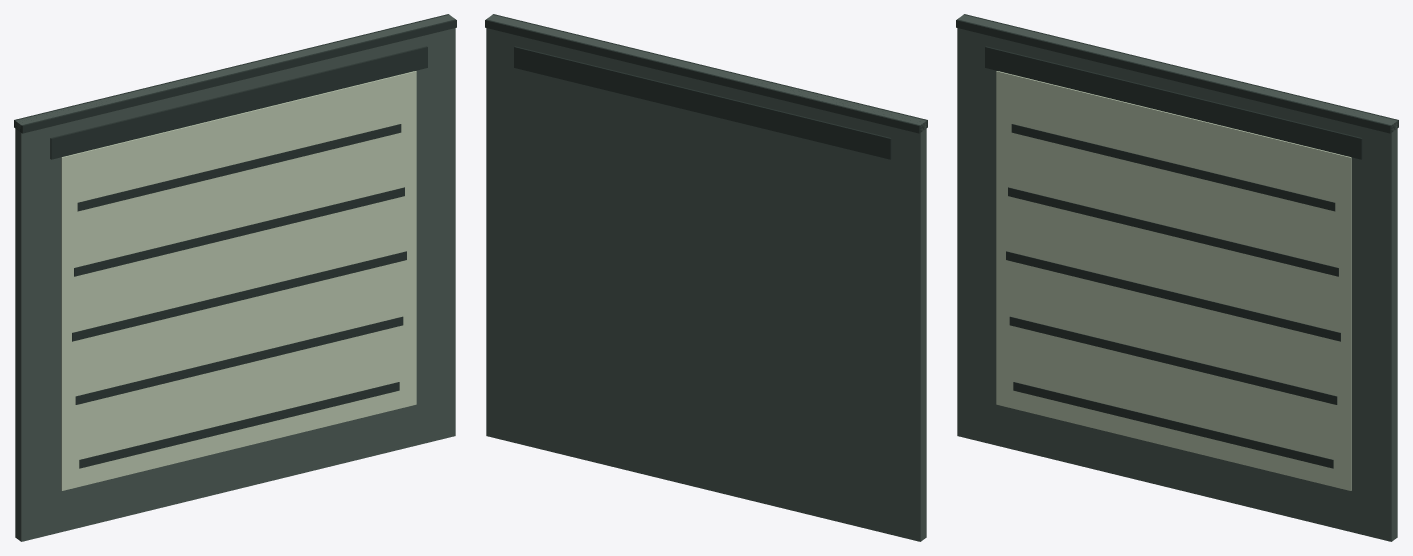
The picture shows the model from 3 angles, left to right: view 1: azimuth 30°, elevation 25°; view 2: azimuth 150°, elevation 25°; view 3: azimuth 330°, elevation 25°; orthographic projection.
Parts seen in each view (by area): view 1: background-content, background-surface, background-soft-valance, background-edge, background-soft-step-1.02, background-soft-step-1.36, background-soft-step-0.68, background-soft-step-1.7, background-accent; view 2: background-surface, background-soft-valance, background-edge; view 3: background-content, background-surface, background-soft-valance, background-edge, background-soft-step-1.02, background-soft-step-1.36, background-soft-step-0.68, background-soft-step-1.7, background-accent.
Part boxes in pixels (x1,y1,x2,y2): background-content: (61,71,416,490); background-surface: (15,15,455,541); background-soft-valance: (50,46,427,159); background-edge: (14,14,456,133); background-soft-step-1.02: (72,251,406,341); background-soft-step-1.36: (74,187,404,276); background-soft-step-0.68: (75,316,403,404); background-soft-step-1.7: (77,124,401,211); background-accent: (79,382,399,468); background-surface: (486,15,926,541); background-soft-valance: (514,46,891,159); background-edge: (485,14,927,133); background-content: (996,71,1351,490); background-surface: (957,15,1397,541); background-soft-valance: (985,46,1362,159); background-edge: (956,14,1398,133); background-soft-step-1.02: (1006,251,1340,341); background-soft-step-1.36: (1008,187,1338,276); background-soft-step-0.68: (1009,316,1337,404); background-soft-step-1.7: (1011,124,1335,211); background-accent: (1013,382,1333,468).
Bounding box in the file's own units: 2.4 × 2.2 × 0.08.
